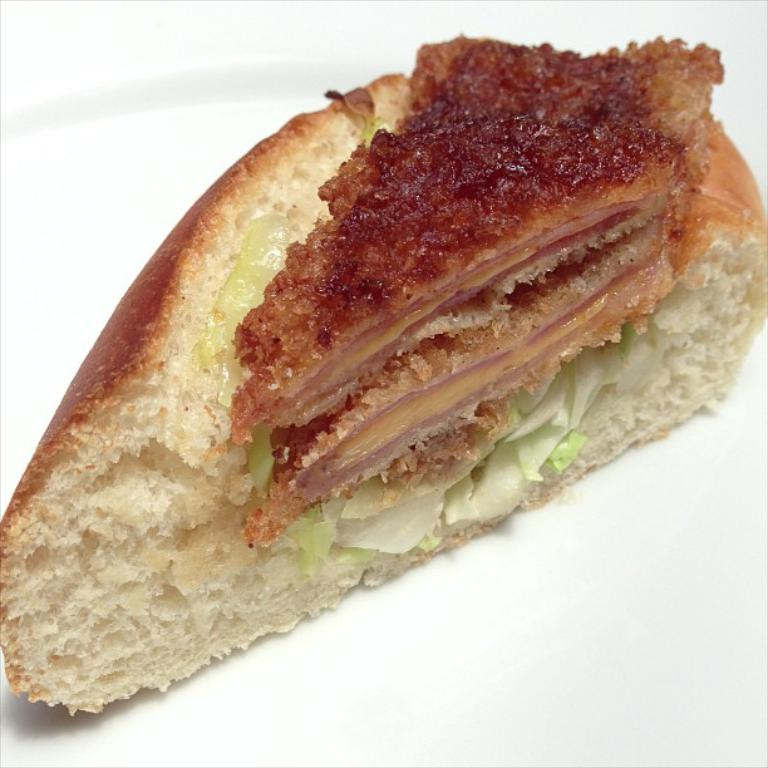sandwich: (0, 33, 767, 719)
